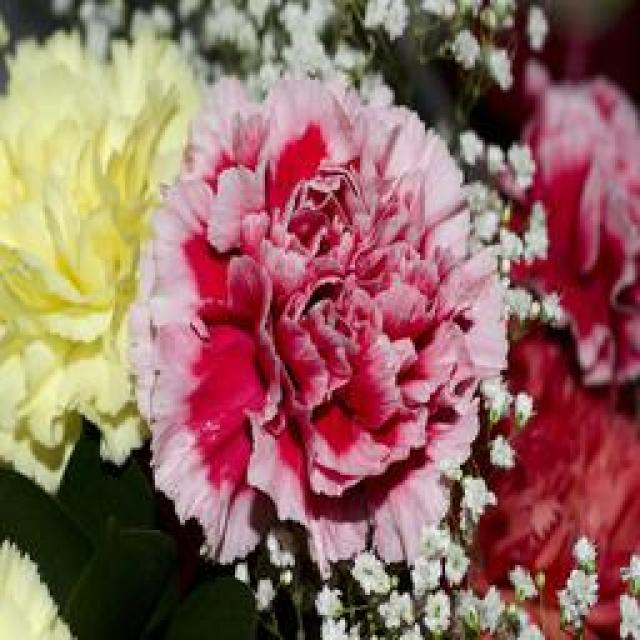carnation: (125, 69, 528, 565)
